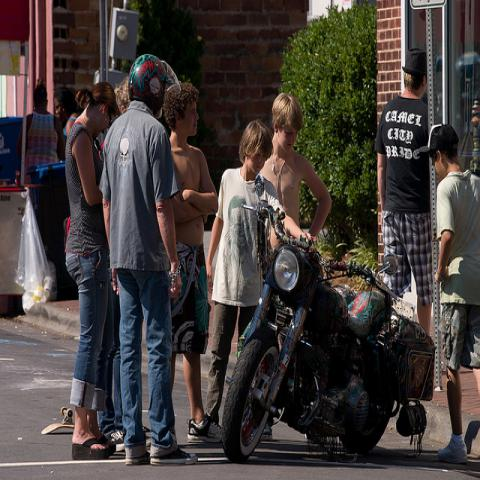motorcycle: (223, 175, 402, 461)
